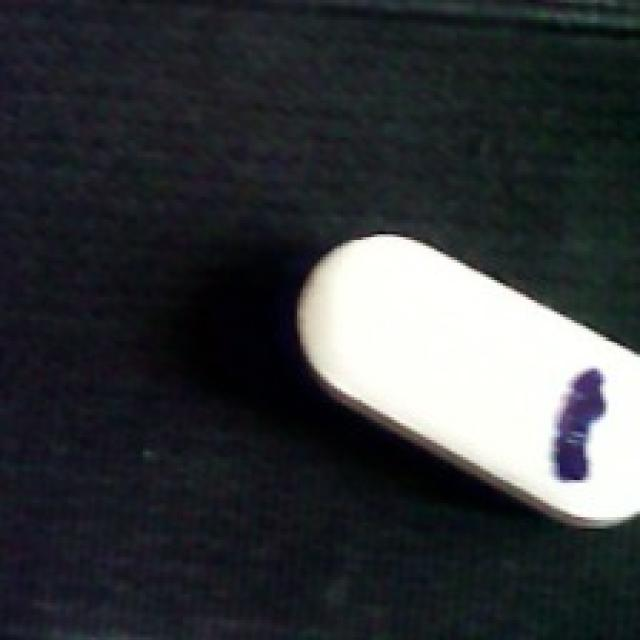defected: (288, 228, 640, 533)
